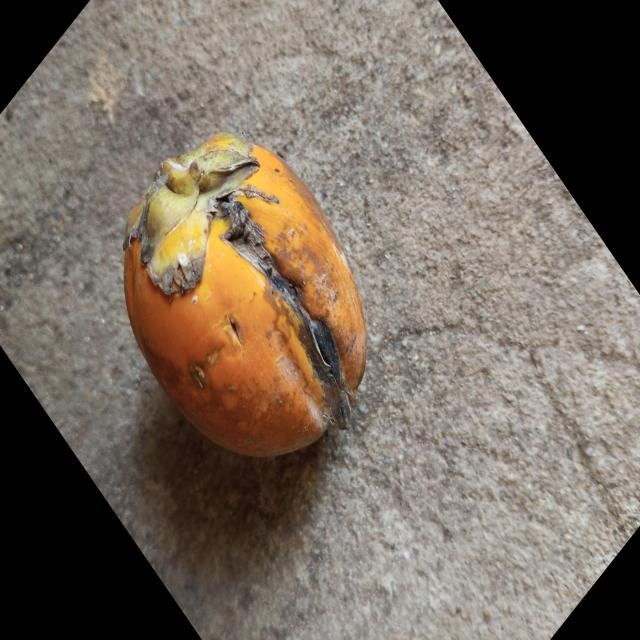damaged: (124, 133, 366, 456)
